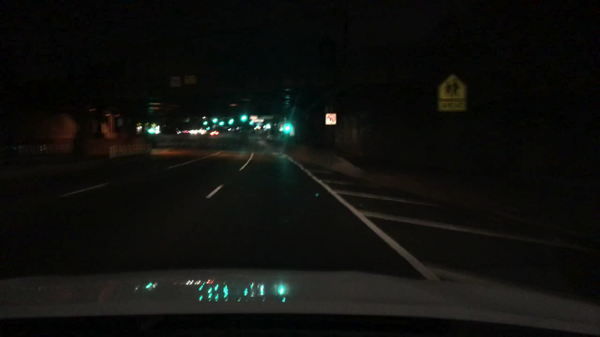car: (267, 130, 280, 141), (211, 130, 219, 136), (190, 130, 197, 135), (199, 130, 206, 134)
traffic light: (219, 118, 225, 127), (284, 122, 289, 132), (242, 111, 246, 122), (228, 117, 233, 124), (202, 119, 207, 125), (212, 117, 217, 123)
traffic sign: (438, 71, 466, 111), (169, 76, 181, 87), (184, 74, 197, 83), (325, 114, 335, 124), (254, 118, 263, 123), (250, 116, 256, 119)
